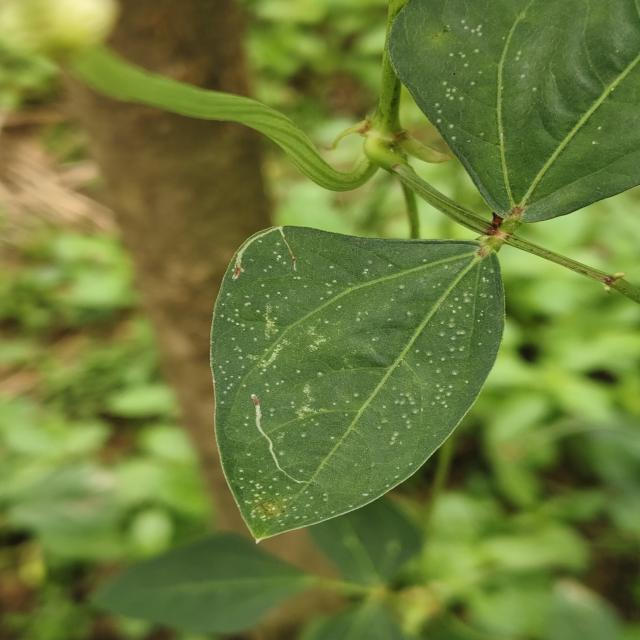sitaw-aphid-high: (211, 226, 504, 584), (388, 0, 640, 222), (98, 535, 305, 633)
